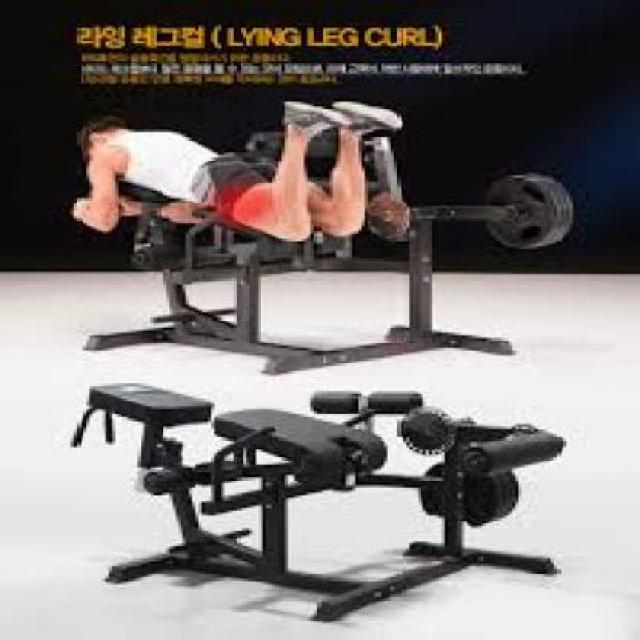reg curl machine: (51, 103, 580, 380)
